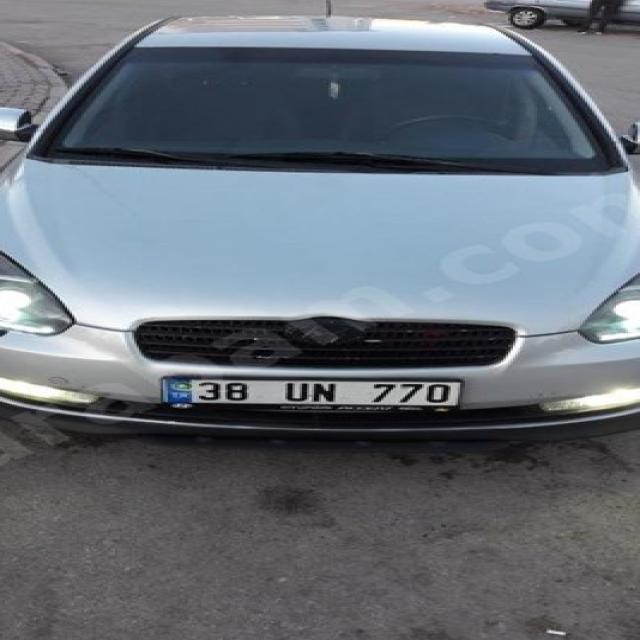license_plate: (163, 377, 460, 406)
